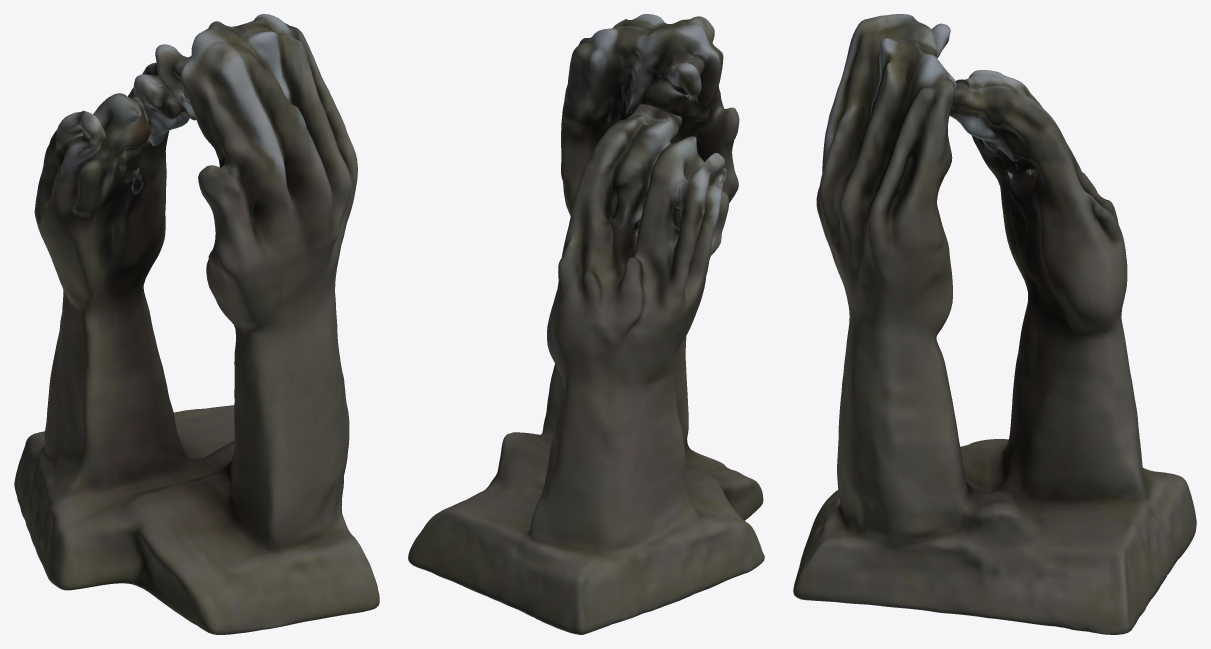
Rendered from 1fbfc6ccfbf1_sculpture_hands__3d.fbx.
The picture shows the model from 3 angles, left to right: view 1: azimuth 30°, elevation 25°; view 2: azimuth 150°, elevation 25°; view 3: azimuth 270°, elevation 25°; orthographic projection. The views are drawn at different scales.
Visible parts, largest first — view 1: high_poly; view 2: high_poly; view 3: high_poly.
Boxes of the visible parts, bbox=[...] form: high_poly: bbox=[14, 14, 379, 634]; high_poly: bbox=[408, 14, 764, 634]; high_poly: bbox=[793, 14, 1196, 634].
Bounding box in the file's own units: 58.26 × 100 × 68.8.
